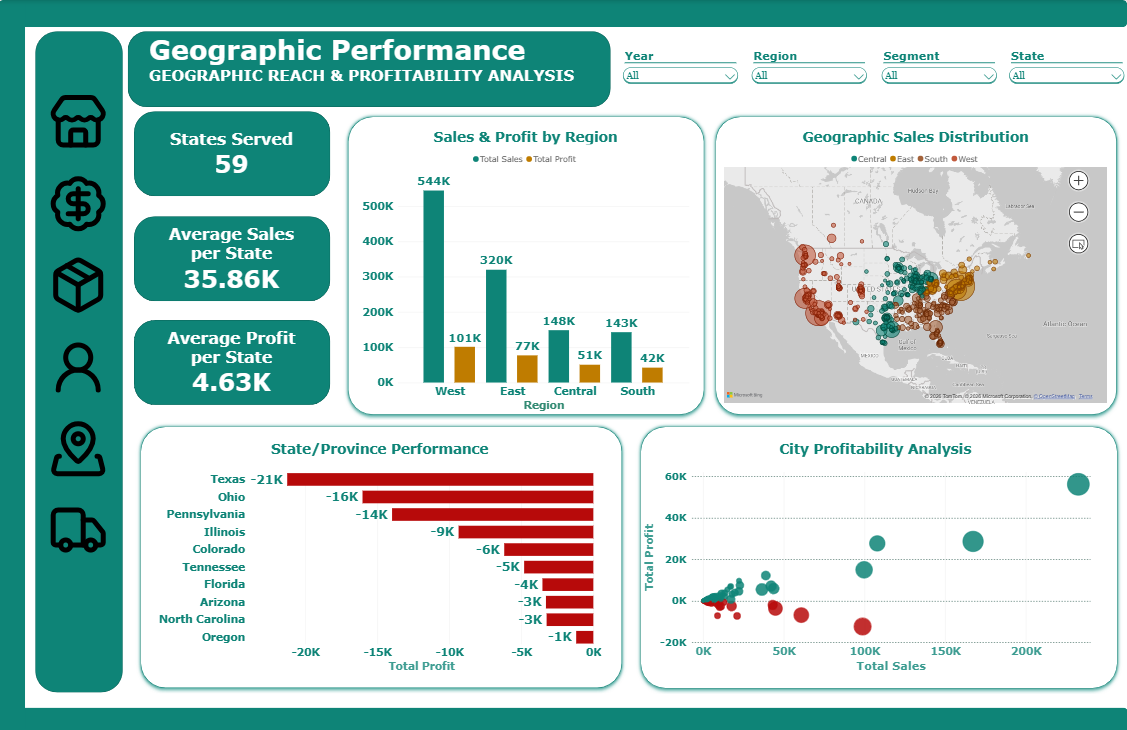

Layout of this report page (visuals, bound fields, positions):
{"tool":"powerbi","page":{"name":"05 Geographic Performance","canvas":[2000,1300],"ordinal":4},"visuals":[{"type":"shape","box":[0,0,1999.7,48.2],"z":0},{"type":"shape","box":[228.4,55.6,855.8,134.4],"z":0,"group":"g2"},{"type":"textbox","box":[265.3,58.6,804.2,117.4],"z":1000,"group":"g2"},{"type":"group","id":"g1","title":"Group 2","box":[239.3,197.2,347.8,150.6],"z":1000},{"type":"shape","box":[0,1253.9,2000.5,46.5],"z":2000},{"type":"shape","box":[0,0,46.5,1300.5],"z":3000},{"type":"shape","box":[239.3,197.2,347.8,150.6],"z":3000,"group":"g1"},{"type":"shape","box":[239.3,382.2,347.8,150.6],"z":3000,"group":"g3"},{"type":"shape","box":[239.3,567.1,347.8,150.6],"z":3000,"group":"g4"},{"type":"shape","box":[64.2,55.4,155.1,1172],"z":4000},{"type":"shape","box":[242.2,746.9,872.2,482.2],"z":5000},{"type":"group","id":"g2","title":"Group 1","box":[228.4,55.6,855.8,134.4],"z":6000},{"type":"slicer","fields":{"Values":["Sales.Ship Date.Variation.Date Hierarchy.Year"]},"box":[1101.1,86.4,213.9,71.9],"z":7000},{"type":"slicer","fields":{"Values":["Sales.Category"]},"box":[1558.9,86.4,213.9,71.9],"z":8000},{"type":"slicer","fields":{"Values":["Sales.Region"]},"box":[1330,86.4,213.9,71.9],"z":9000},{"type":"group","id":"g3","title":"Group 2","box":[239.3,382.2,347.8,150.6],"z":10000},{"type":"group","id":"g4","title":"Group 2","box":[239.3,567.1,347.8,150.6],"z":11000},{"type":"cardVisual","fields":{"Data":["Page5 Measures.States Served"]},"box":[276.6,205.5,270.9,134.7],"z":11001,"group":"g1"},{"type":"cardVisual","fields":{"Data":["Page5 Measures.Average Sales per State"]},"box":[276.6,390.5,270.9,134.7],"z":11001,"group":"g3"},{"type":"cardVisual","fields":{"Data":["Page5 Measures.Average Profit per State"]},"box":[276.6,575.4,270.9,134.7],"z":11001,"group":"g4"},{"type":"shape","box":[610,197.5,650,547.5],"z":12000},{"type":"barChart","title":"State/Province Performance","fields":{"Category":["Sales.State/Province"],"Y":["Page1 Measures.Total Profit"]},"box":[265.9,766.5,817.5,440.9],"z":13000},{"type":"slicer","fields":{"Values":["Sales.Segment"]},"box":[1786.1,86.4,213.9,71.9],"z":14000},{"type":"lineClusteredColumnComboChart","title":"Sales & Profit by Region","fields":{"Category":["Sales.Region"],"Y":["Page1 Measures.Total Sales","Page1 Measures.Total Profit"]},"box":[627.5,212.5,612.5,532.5],"z":15000},{"type":"shape","box":[1260,197.5,730,547.5],"z":16000},{"type":"image","box":[86.4,163.9,108.6,106.2],"z":17000,"group":"g5"},{"type":"map","title":"Geographic Sales Distribution","fields":{"Category":["Sales.Full Location"],"Series":["Sales.Region"],"Size":["Page1 Measures.Total Sales"]},"box":[1270,212.5,710,517.5],"z":17000},{"type":"image","box":[86.4,308.4,108.6,106.2],"z":18000,"group":"g5"},{"type":"shape","box":[1127.6,746.6,864,483],"z":18000},{"type":"image","box":[86.4,452.8,108.6,106.2],"z":19000,"group":"g5"},{"type":"scatterChart","title":"City Profitability Analysis","fields":{"Category":["Sales.City"],"Size":["CountNonNull(Sales.Country/Region)"],"X":["Page1 Measures.Total Sales"],"Y":["Page1 Measures.Total Profit"]},"box":[1127.6,766.5,850.7,440.9],"z":19000},{"type":"group","id":"g5","title":"Group 7","box":[86.4,163.9,108.6,828.6],"z":19001},{"type":"image","box":[86.4,597.3,108.6,106.2],"z":20000,"group":"g5"},{"type":"image","box":[86.4,741.8,108.6,106.2],"z":21000,"group":"g5"},{"type":"image","box":[86.4,886.2,108.6,106.2],"z":22000,"group":"g5"}]}

Visuals, with their boxes in screenshot pixels (x1, y1, x2, y2), scaled from the page's 2000x1300 canvas onto the 1127x730 screenshot:
shape: 0 0 1126 27
shape: 129 31 611 107
textbox: 149 33 603 99
"Group 2" group: 135 111 331 195
shape: 0 704 1126 729
shape: 0 0 26 729
shape: 135 111 331 195
shape: 135 215 331 299
shape: 135 318 331 403
shape: 36 31 124 689
shape: 136 419 628 690
"Group 1" group: 129 31 611 107
slicer - Sales.Ship Date.Variation.Date Hierarchy.Year: 620 49 741 89
slicer - Sales.Category: 878 49 999 89
slicer - Sales.Region: 749 49 870 89
"Group 2" group: 135 215 331 299
"Group 2" group: 135 318 331 403
cardVisual - Page5 Measures.States Served: 156 115 309 191
cardVisual - Page5 Measures.Average Sales per State: 156 219 309 295
cardVisual - Page5 Measures.Average Profit per State: 156 323 309 399
shape: 344 111 710 418
"State/Province Performance" barChart: 150 430 610 678
slicer - Sales.Segment: 1006 49 1126 89
"Sales & Profit by Region" lineClusteredColumnComboChart: 354 119 699 418
shape: 710 111 1121 418
image: 49 92 110 152
"Geographic Sales Distribution" map: 716 119 1116 410
image: 49 173 110 233
shape: 635 419 1122 690
image: 49 254 110 314
"City Profitability Analysis" scatterChart: 635 430 1115 678
"Group 7" group: 49 92 110 557
image: 49 335 110 395
image: 49 417 110 476
image: 49 498 110 557
